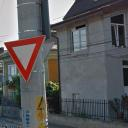preferencia: (3, 34, 52, 81)
